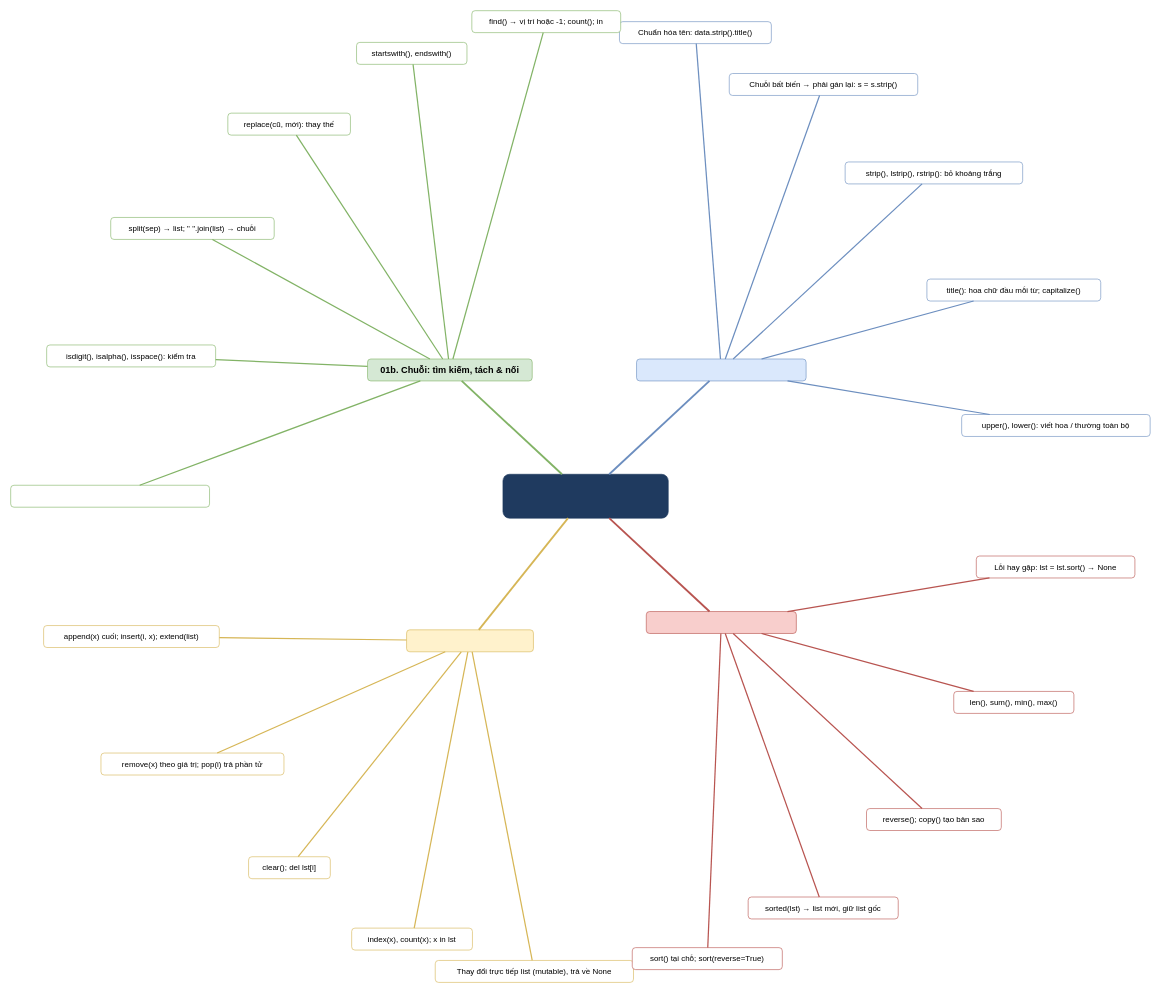
Some shapes in this 1161 by 993 pixel diagram are drawn without their labels. The shapes that lost their labels are listed below. From the top down, each one's box as (x1, y1, x2, y2) in pixels, then its label:
(636, 358, 806, 381): 01a. Chuỗi: biến đổi & chuẩn hóa
(10, 485, 210, 507): Hàm C tối ưu, nhanh hơn vòng lặp từng ký tự
(502, 474, 668, 518): Python Session 15 Hàm xử lý chuỗi & list
(406, 629, 533, 652): 02a. List: thêm, xóa, tìm
(646, 611, 796, 633): 02b. List: sắp xếp & thống kê
